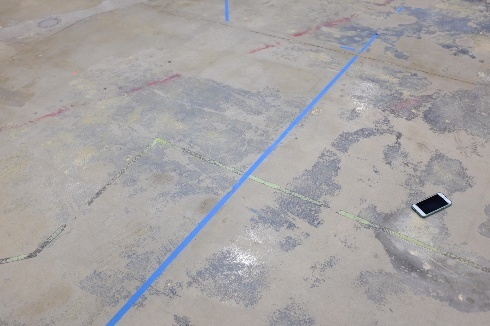phone: (409, 187, 458, 219)
